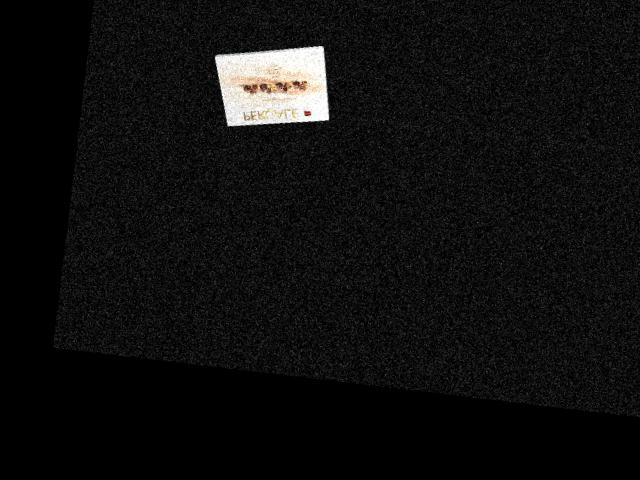chocolate: (212, 30, 333, 136)
